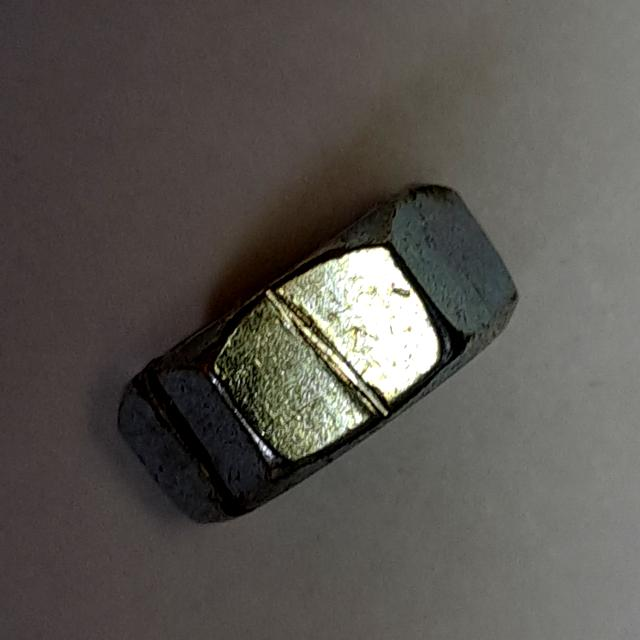Side_Scratches: (104, 171, 536, 548)
